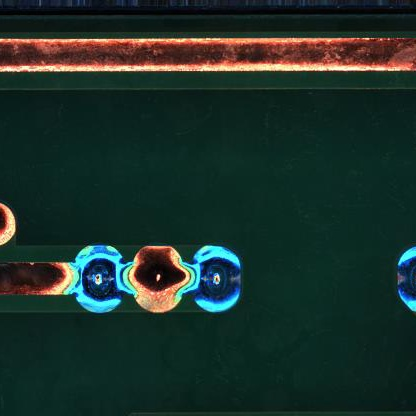spot: (187, 244, 246, 313), (72, 245, 126, 313)
